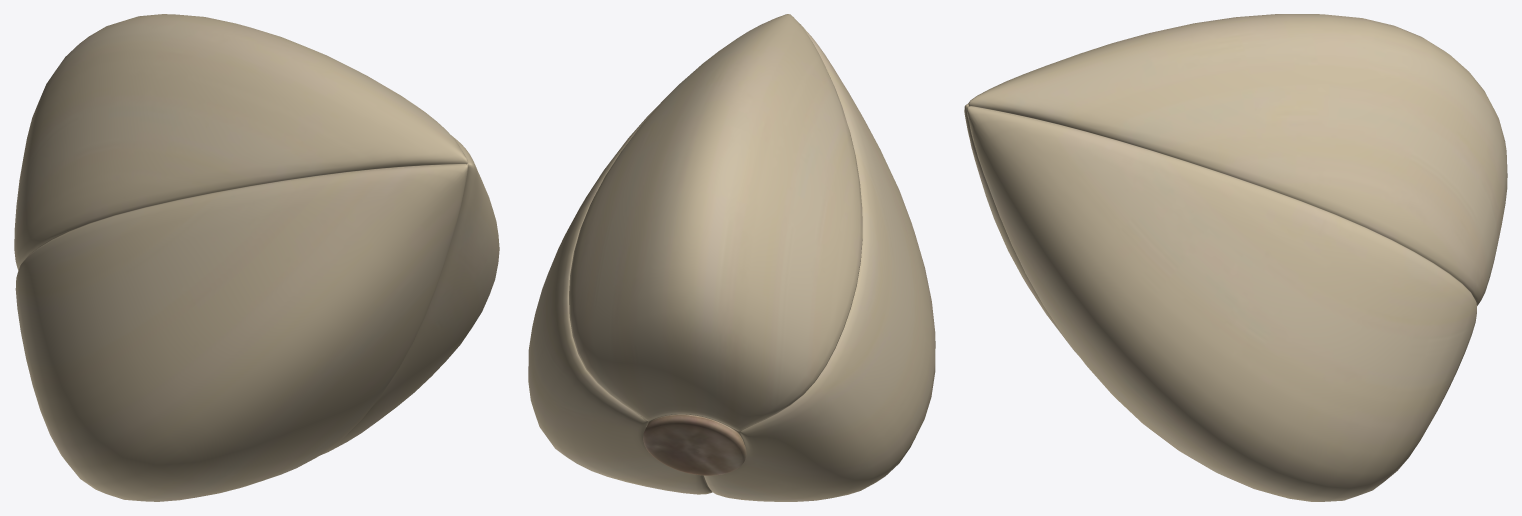
File: GrainBuckwheat007.obj
The picture shows the model from 3 angles, left to right: view 1: azimuth 30°, elevation 25°; view 2: azimuth 150°, elevation 25°; view 3: azimuth 270°, elevation 25°; orthographic projection. The views are drawn at different scales.
Visible parts, largest first — view 1: GrainBuckwheat007; view 2: GrainBuckwheat007; view 3: GrainBuckwheat007.
Boxes of the visible parts, x1=… form: GrainBuckwheat007: x1=14, y1=14, x2=499, y2=501; GrainBuckwheat007: x1=528, y1=14, x2=935, y2=501; GrainBuckwheat007: x1=964, y1=14, x2=1507, y2=501.
Bounding box in the file's own units: 0.0252 × 0.0267 × 0.0297.
1 material, 1 textured.
